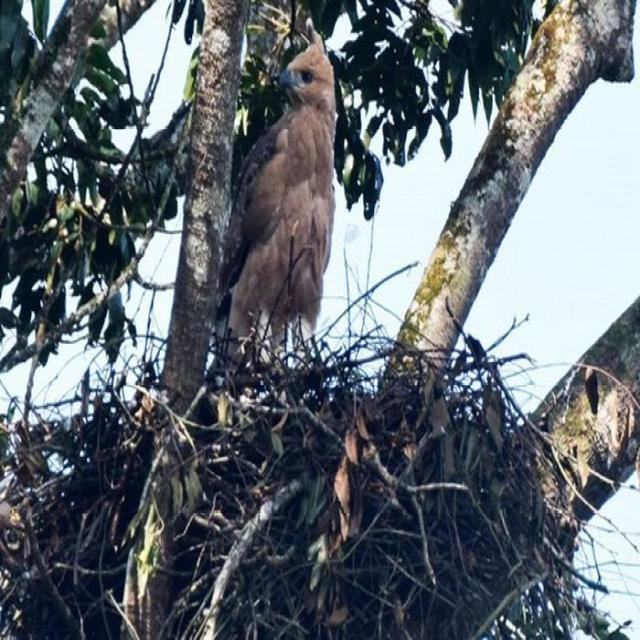Elang Jawa: (206, 6, 350, 382)
